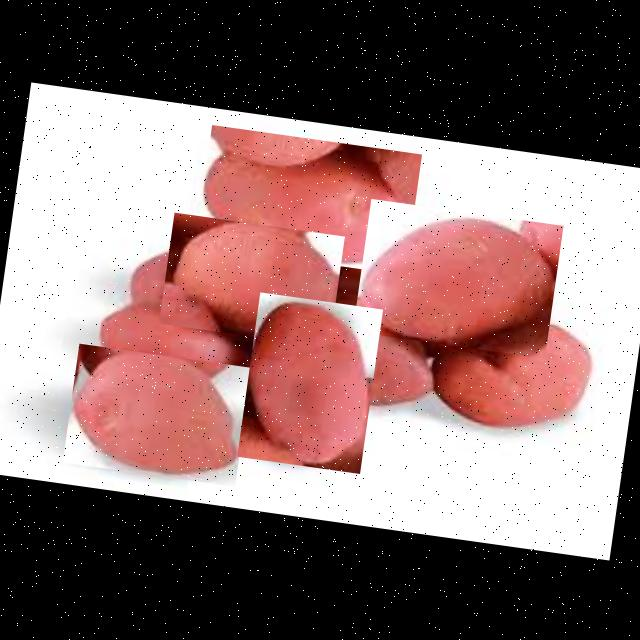Defected potato: (194, 124, 421, 274), (352, 198, 562, 358), (62, 342, 251, 486), (236, 291, 382, 473), (158, 212, 344, 346), (424, 302, 596, 440)
